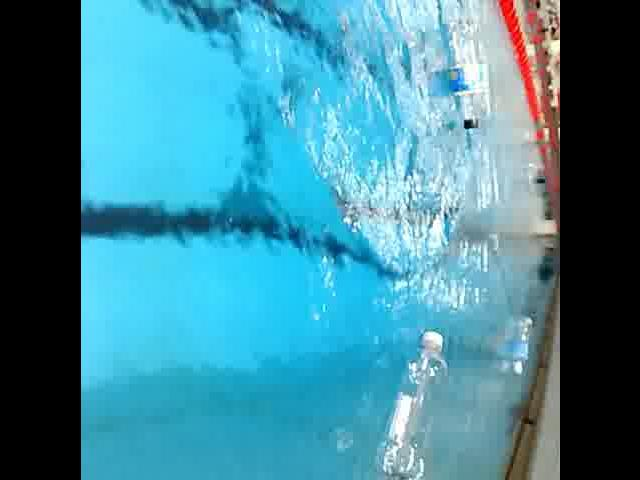Bottle: (370, 323, 452, 480), (438, 15, 492, 136), (506, 310, 534, 380)
